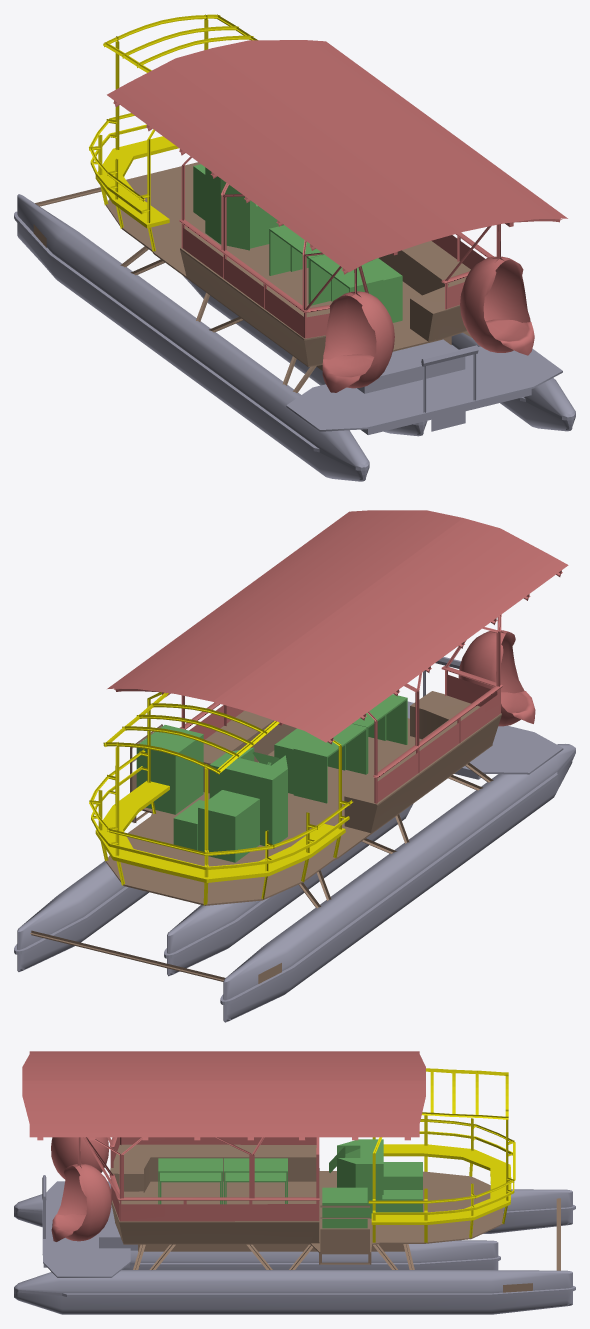
Rendered from Solarschiff_Final.fbx.
3 renders of one model, top to bottom at view 1: azimuth 30°, elevation 25°; view 2: azimuth 150°, elevation 25°; view 3: azimuth 270°, elevation 25°, orthographic. The views are drawn at different scales.
Parts seen in each view (by area): view 1: polySurface63; view 2: polySurface63; view 3: polySurface63.
Part boxes in pixels (x1=…): polySurface63: x1=14, y1=14, x2=575, y2=481; polySurface63: x1=14, y1=510, x2=575, y2=1022; polySurface63: x1=14, y1=1051, x2=575, y2=1314.
Size of the model in its own units: 15.56 by 15.38 by 38.6.
